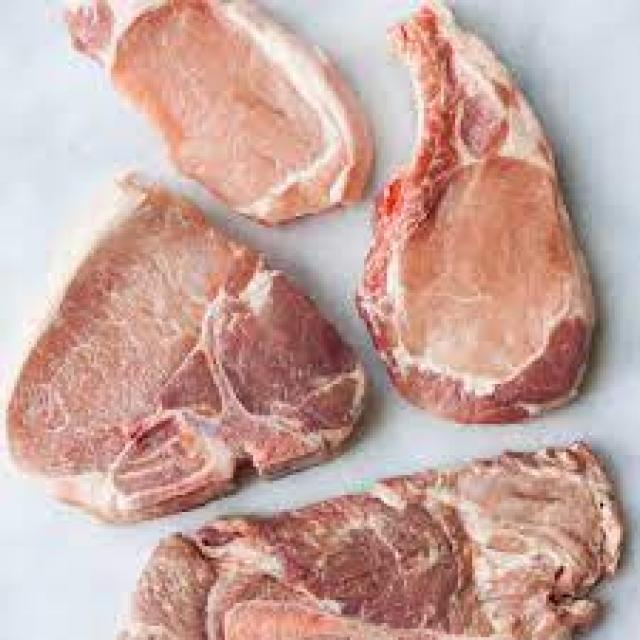pork: (9, 188, 367, 523), (358, 0, 594, 424), (65, 0, 375, 225)
